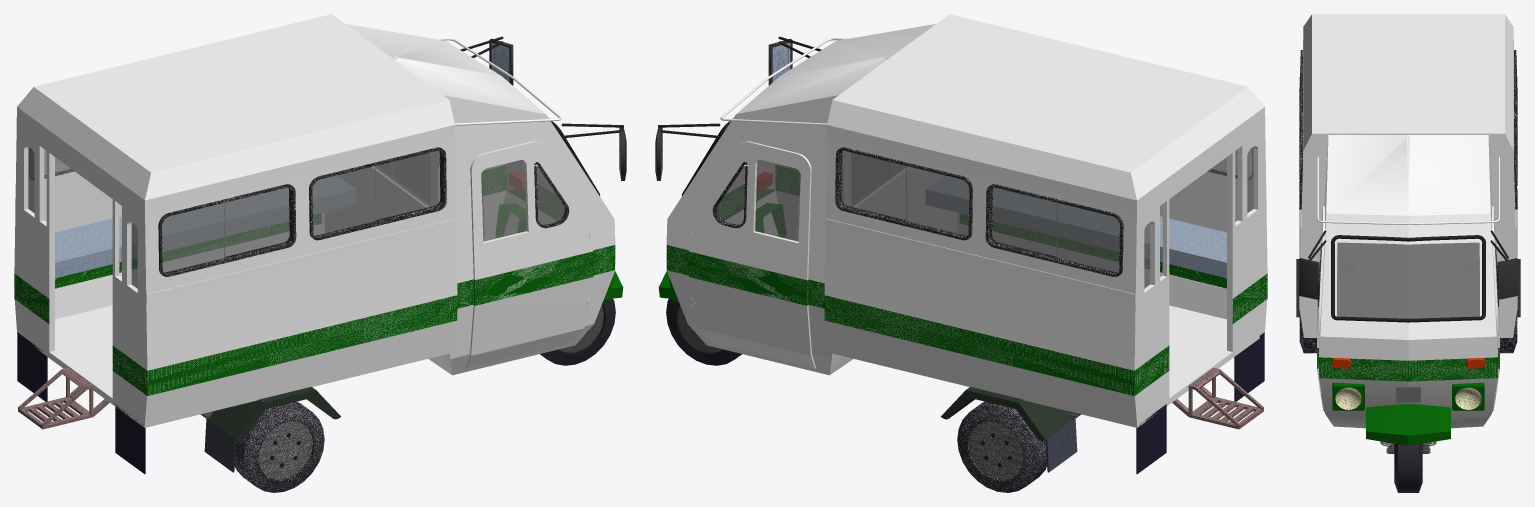
The picture shows the model from 3 angles, left to right: view 1: azimuth 30°, elevation 25°; view 2: azimuth 150°, elevation 25°; view 3: azimuth 270°, elevation 25°; orthographic projection. The views are drawn at different scales.
Parts seen in each view (by area): view 1: The_Half (×17), Seat, HalfWheel (×3), Back_Wheel_Cover (×2), NumberPlate (×2), Stair; view 2: The_Half (×17), Seat, HalfWheel (×3), Back_Wheel_Cover (×2), NumberPlate (×2), Stair; view 3: The_Half (×12), Front_Wheel_Cover, Strip (×4), HalfWheel (×4), HeadLight (×4), Mirror (×2), Sharad.
Part boxes in pixels (<box>): The_Half (×17): <box>14,14,615,427</box>; Seat: <box>55,176,355,278</box>; HalfWheel (×3): <box>237,298,615,492</box>; Back_Wheel_Cover (×2): <box>204,387,340,472</box>; NumberPlate (×2): <box>17,332,144,473</box>; Stair: <box>18,367,109,429</box>; The_Half (×17): <box>666,14,1267,427</box>; Seat: <box>926,176,1226,278</box>; HalfWheel (×3): <box>666,298,1044,492</box>; Back_Wheel_Cover (×2): <box>941,387,1077,472</box>; NumberPlate (×2): <box>1137,332,1264,473</box>; Stair: <box>1172,367,1263,429</box>; The_Half (×12): <box>1299,14,1517,428</box>; Front_Wheel_Cover: <box>1366,404,1450,445</box>; Strip (×4): <box>1317,156,1499,322</box>; HalfWheel (×4): <box>1299,317,1517,492</box>; HeadLight (×4): <box>1332,382,1484,410</box>; Mirror (×2): <box>1299,258,1517,299</box>; Sharad: <box>1396,386,1420,402</box>.
Size of the model in its own units: 132 by 53.79 by 75.33.
Materials: 16 (1 with a texture image).
